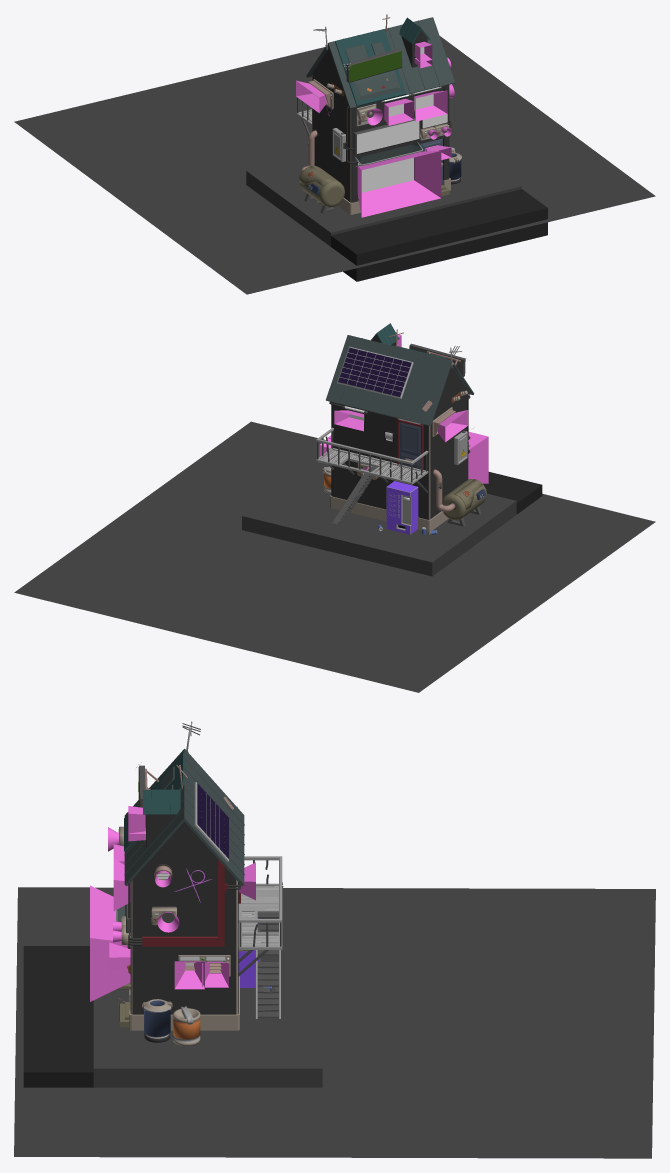
The model's file is building2.fbx.
3 renders of one model, top to bottom at view 1: azimuth 30°, elevation 25°; view 2: azimuth 150°, elevation 25°; view 3: azimuth 270°, elevation 25°, orthographic. The views are drawn at different scales.
Visible parts, largest first — view 1: Plane.234; view 2: Plane.234; view 3: Plane.234.
Part boxes in pixels (left/top/right/bottom): Plane.234: left=14, top=14, right=655, bottom=294; Plane.234: left=14, top=323, right=655, bottom=692; Plane.234: left=14, top=721, right=655, bottom=1158.
Bounding box in the file's own units: 3019 × 1433 × 3019.
36 materials, 3 textured.
